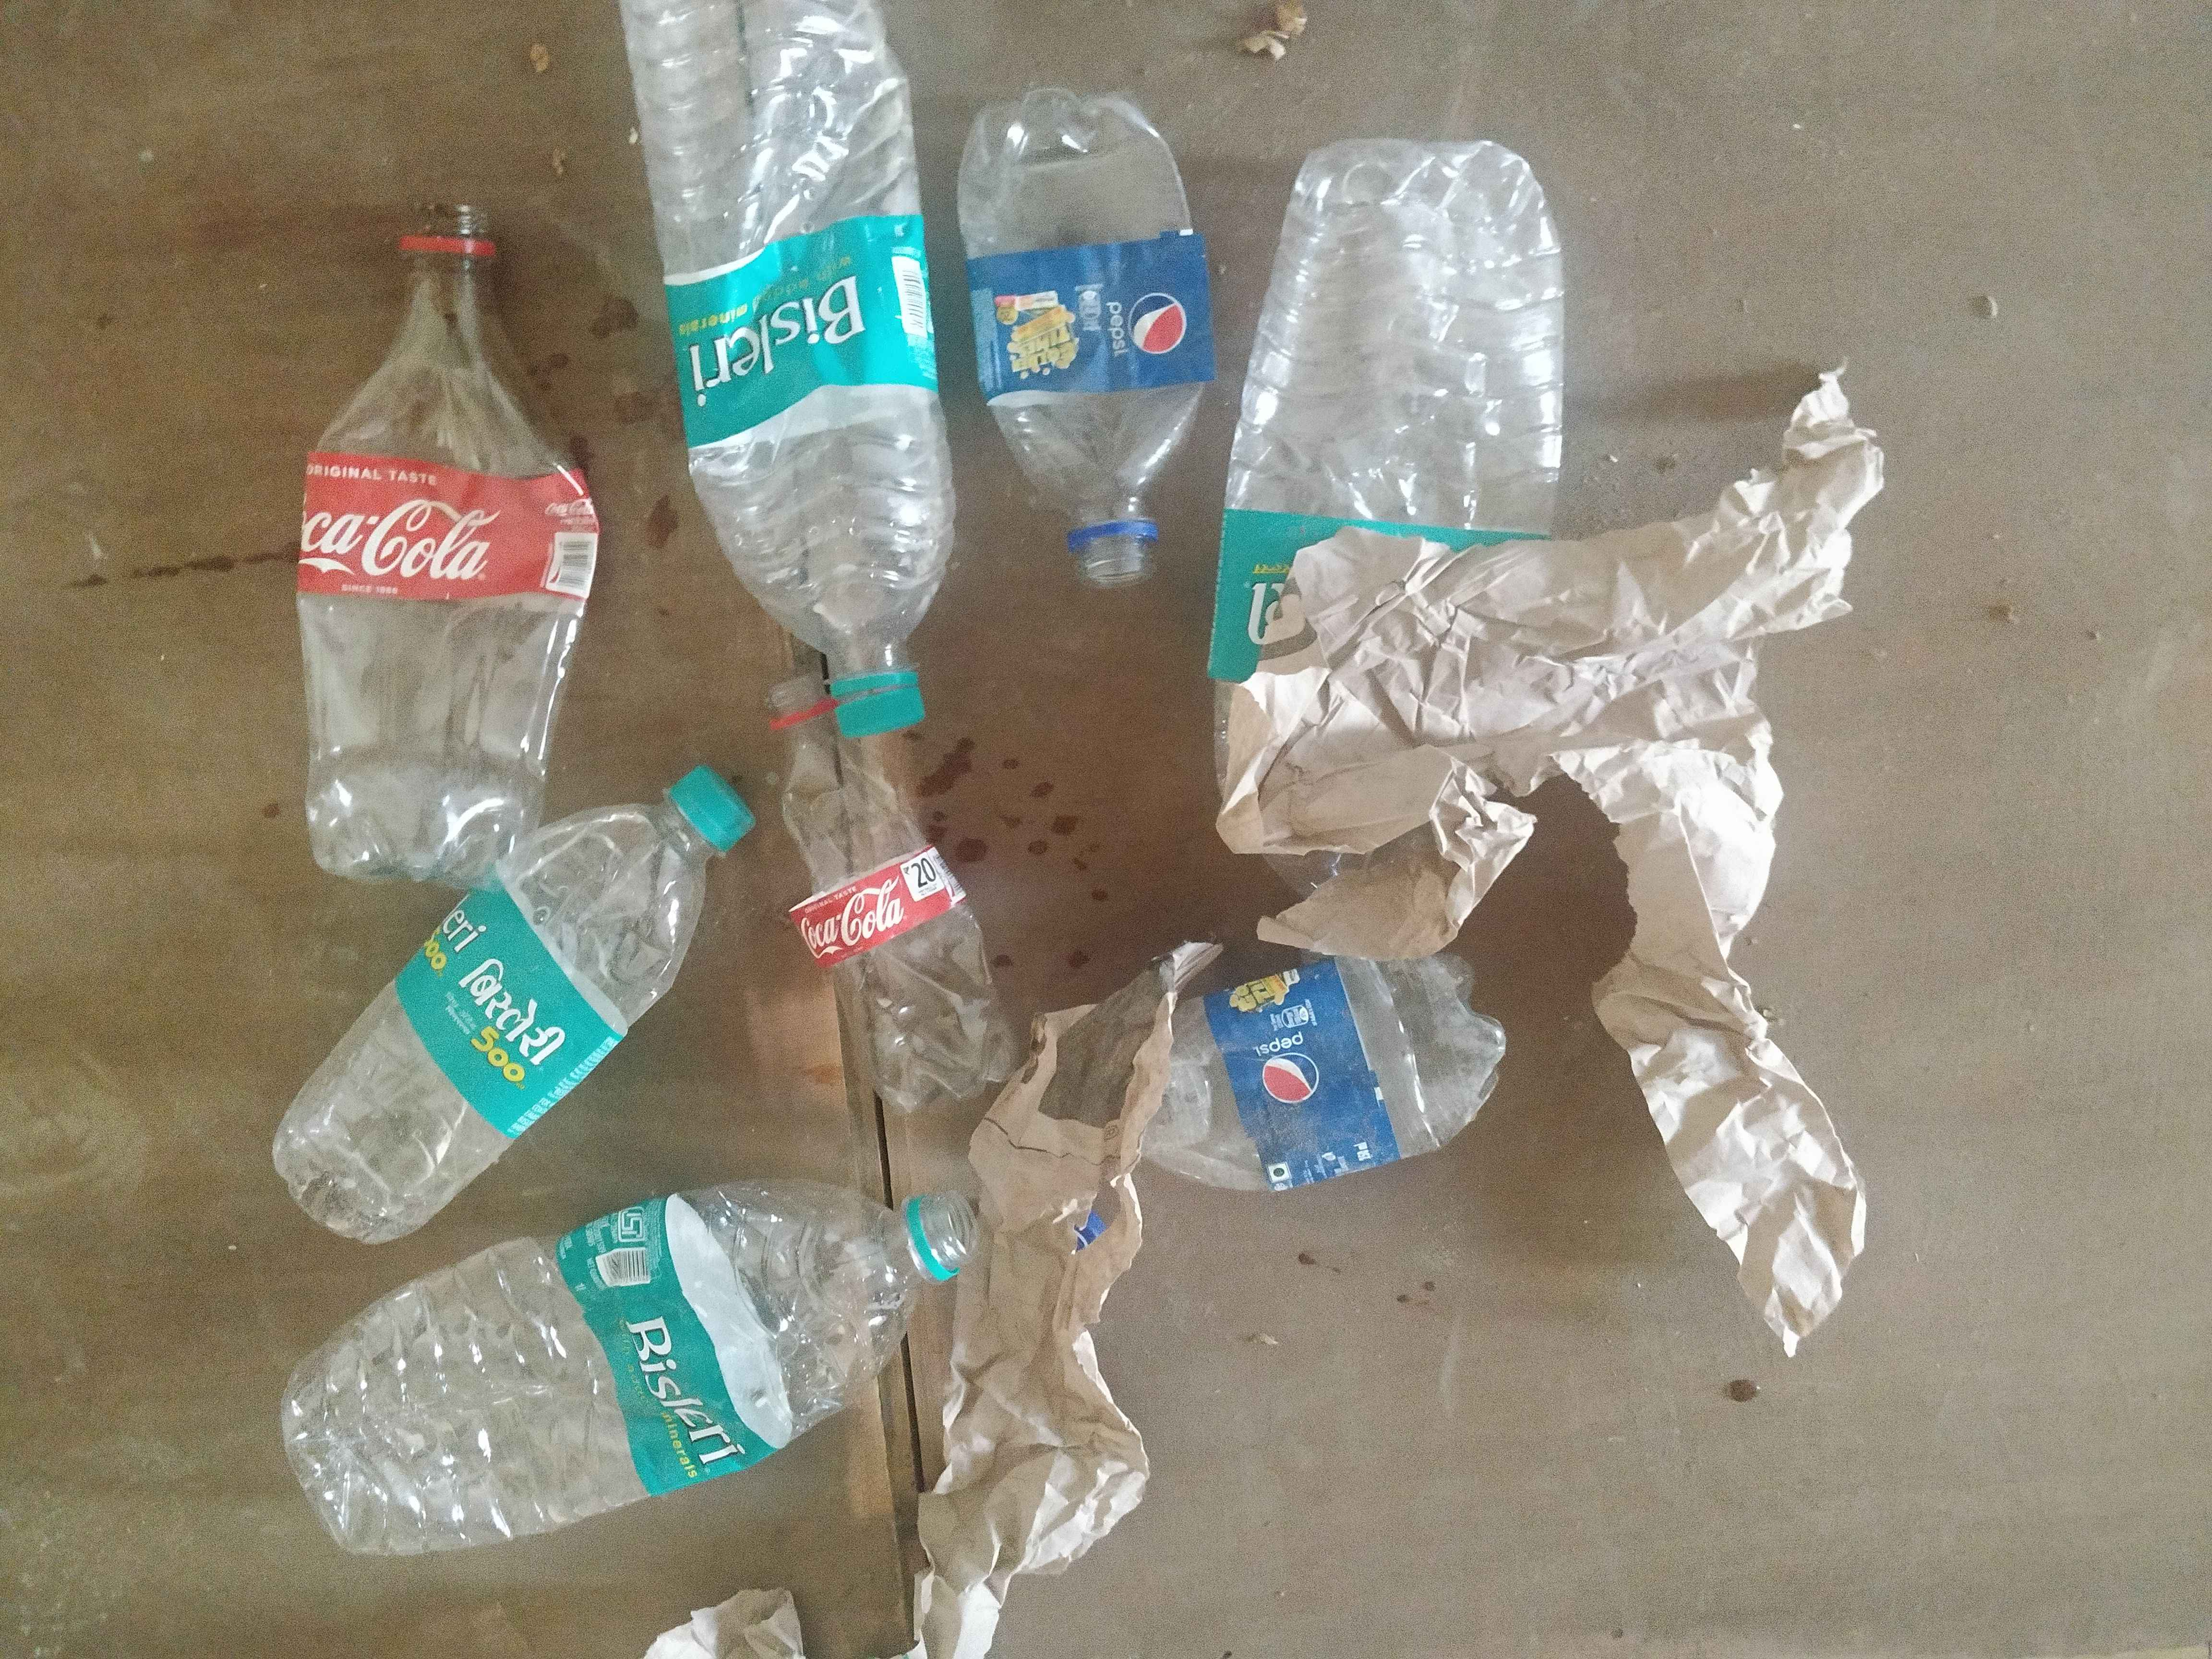Bisleri: (423, 890, 583, 1087), (664, 272, 920, 380), (606, 1277, 742, 1480), (1198, 514, 1343, 666)
Coca-Cola: (300, 455, 613, 615), (794, 856, 954, 967)
pepsi: (1231, 974, 1381, 1175), (979, 247, 1190, 368)
